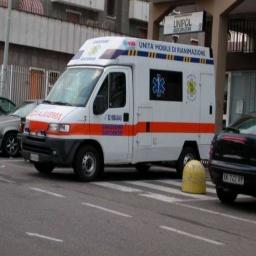ambulance: (21, 37, 214, 180)
